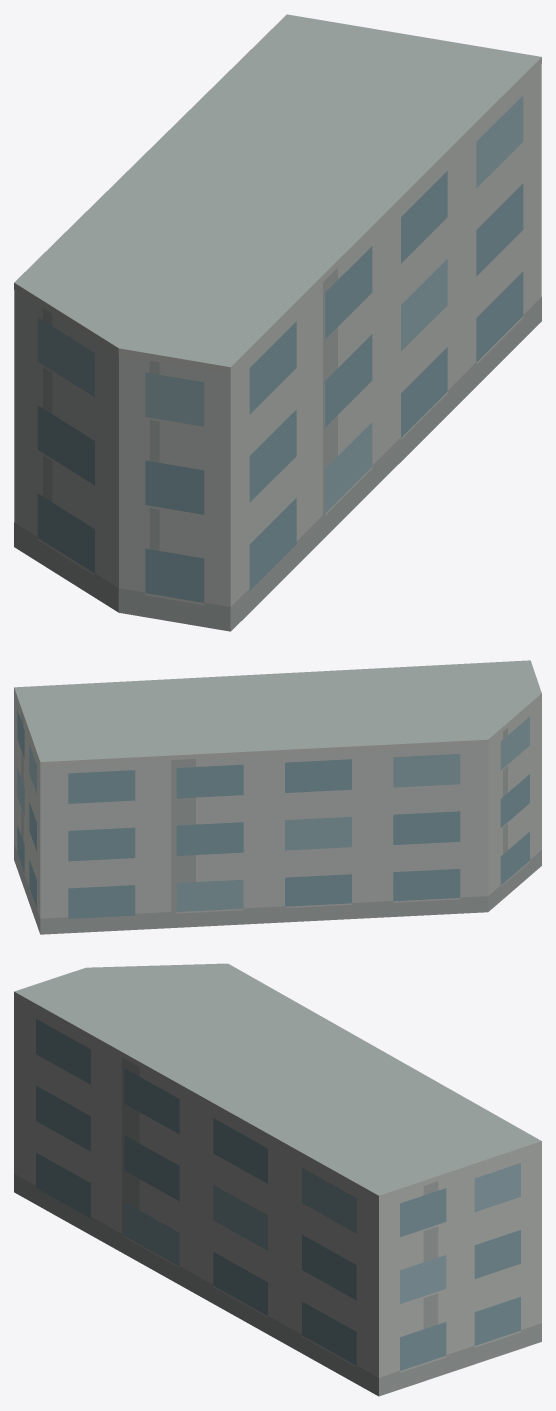
File: residential-c27242d4-0952-4eca-aa27-8b56f2c30c75.glb
The picture shows the model from 3 angles, top to bottom: view 1: azimuth 30°, elevation 25°; view 2: azimuth 150°, elevation 25°; view 3: azimuth 270°, elevation 25°; orthographic projection. The views are drawn at different scales.
Visible parts, largest first — view 1: residential-c27242d4-0952-4eca-aa27-8b56f2c30c75.tmp; view 2: residential-c27242d4-0952-4eca-aa27-8b56f2c30c75.tmp; view 3: residential-c27242d4-0952-4eca-aa27-8b56f2c30c75.tmp.
Part boxes in pixels (<box>): residential-c27242d4-0952-4eca-aa27-8b56f2c30c75.tmp: <box>14,14,541,631</box>; residential-c27242d4-0952-4eca-aa27-8b56f2c30c75.tmp: <box>14,660,541,934</box>; residential-c27242d4-0952-4eca-aa27-8b56f2c30c75.tmp: <box>14,963,541,1396</box>.
Size of the model in its own units: 22.72 by 9.15 by 21.82.
